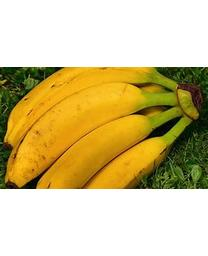banana: (4, 67, 200, 189)
